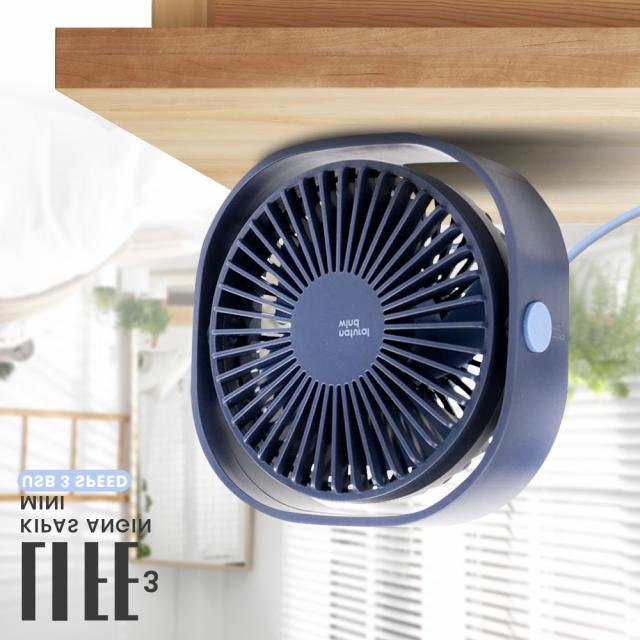fan: (180, 127, 574, 535)
